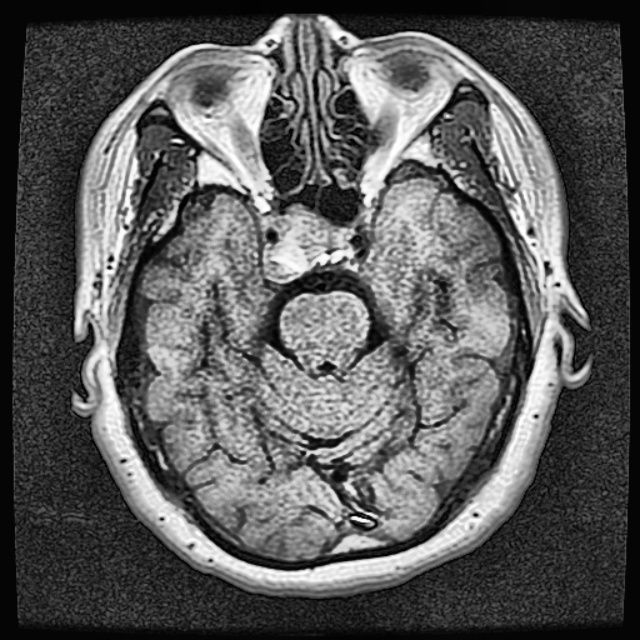Pituitary: (268, 205, 353, 280)
